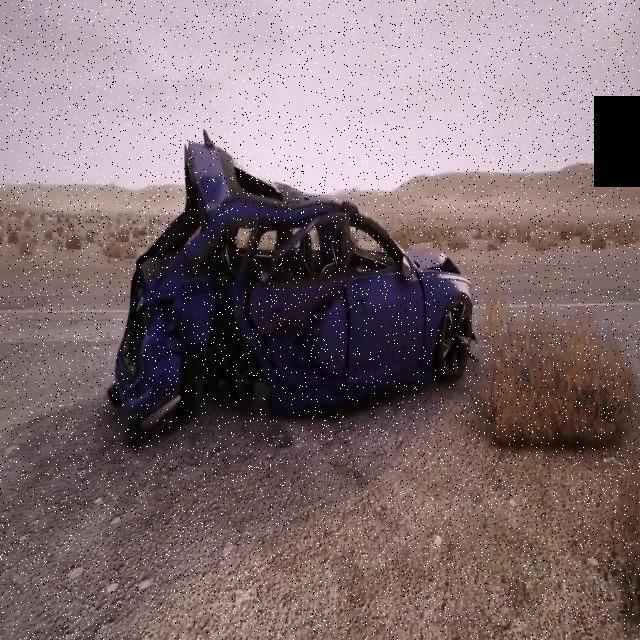single accident: (151, 133, 503, 411)
